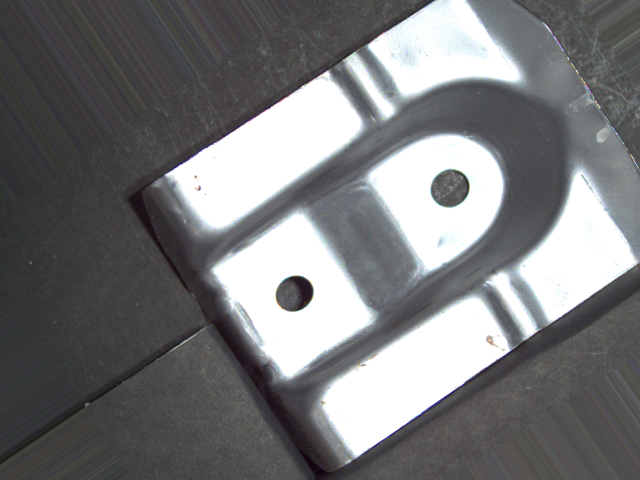defect: (426, 166, 474, 209)
